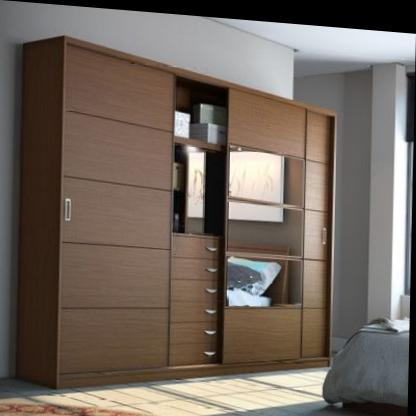Closet: (56, 38, 336, 388)
